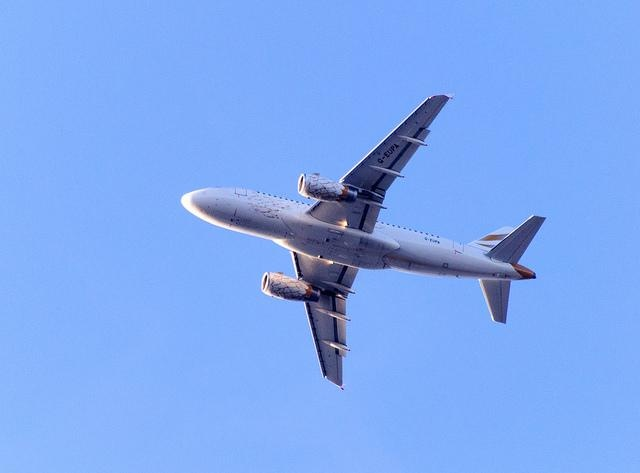airplane: (178, 92, 548, 386)
